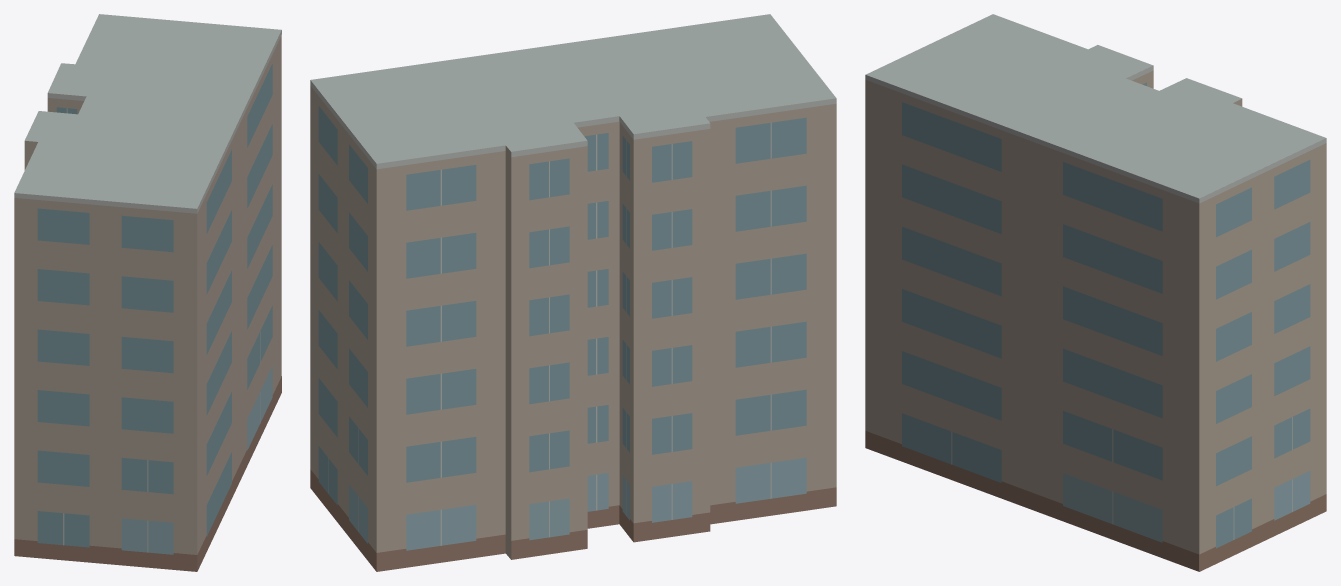
File: survey-upis-32524277.glb
3 views of the same model, side by side, from view 1: azimuth 30°, elevation 25°; view 2: azimuth 150°, elevation 25°; view 3: azimuth 270°, elevation 25° (orthographic). The views are drawn at different scales.
Visible parts, largest first — view 1: survey-upis-32524277.tmp; view 2: survey-upis-32524277.tmp; view 3: survey-upis-32524277.tmp.
Part boxes in pixels (left/top/right/bottom): survey-upis-32524277.tmp: left=14, top=14, right=281, bottom=571; survey-upis-32524277.tmp: left=310, top=14, right=836, bottom=571; survey-upis-32524277.tmp: left=865, top=14, right=1326, bottom=571.
Size of the model in its own units: 19.42 by 18.3 by 20.49.
